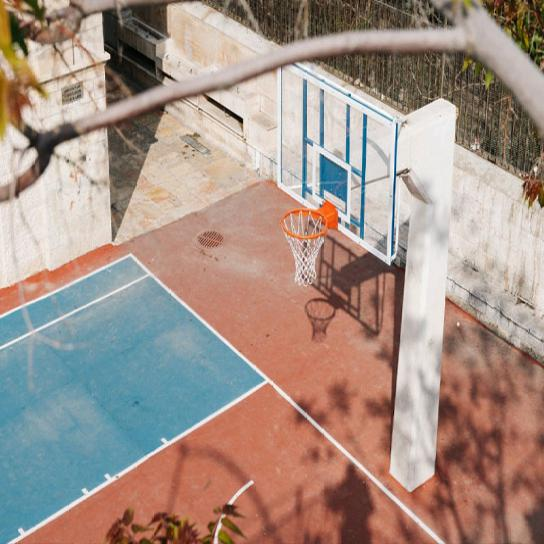basketball-hoop: (277, 202, 329, 286)
